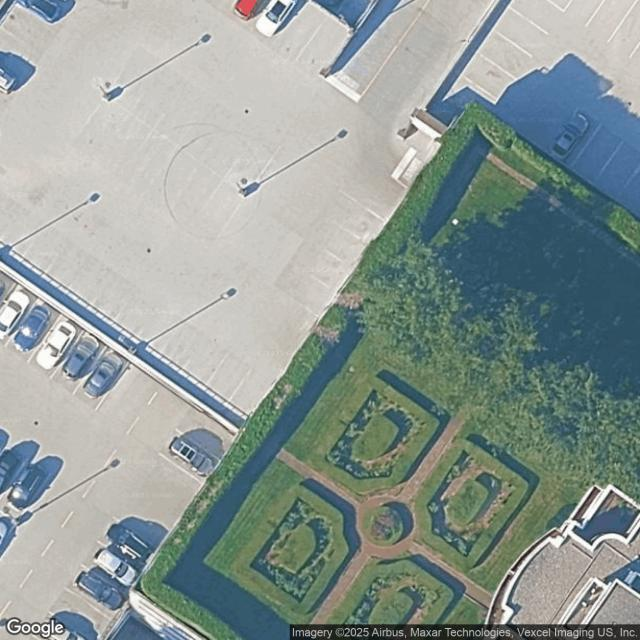car: (67, 558, 133, 615), (50, 328, 105, 393), (27, 314, 82, 378), (75, 345, 129, 408), (86, 539, 146, 594), (100, 518, 157, 571), (7, 298, 57, 357), (0, 286, 38, 349), (8, 463, 52, 509), (169, 437, 216, 475), (553, 111, 590, 157), (36, 611, 93, 639), (256, 0, 297, 36), (0, 448, 23, 495), (227, 1, 264, 27), (0, 515, 17, 559), (0, 63, 20, 95)
